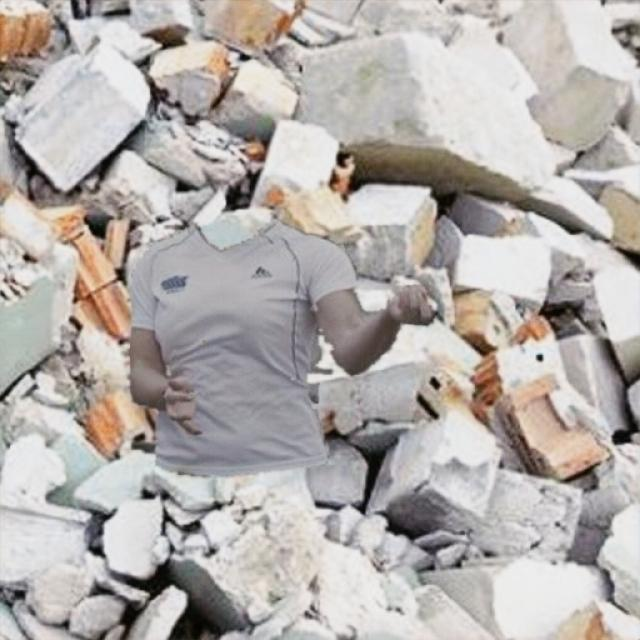Person in Rubble: (128, 218, 434, 478)
